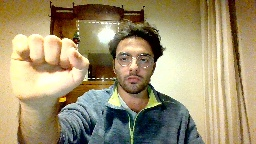Pugno: (6, 28, 91, 103)
